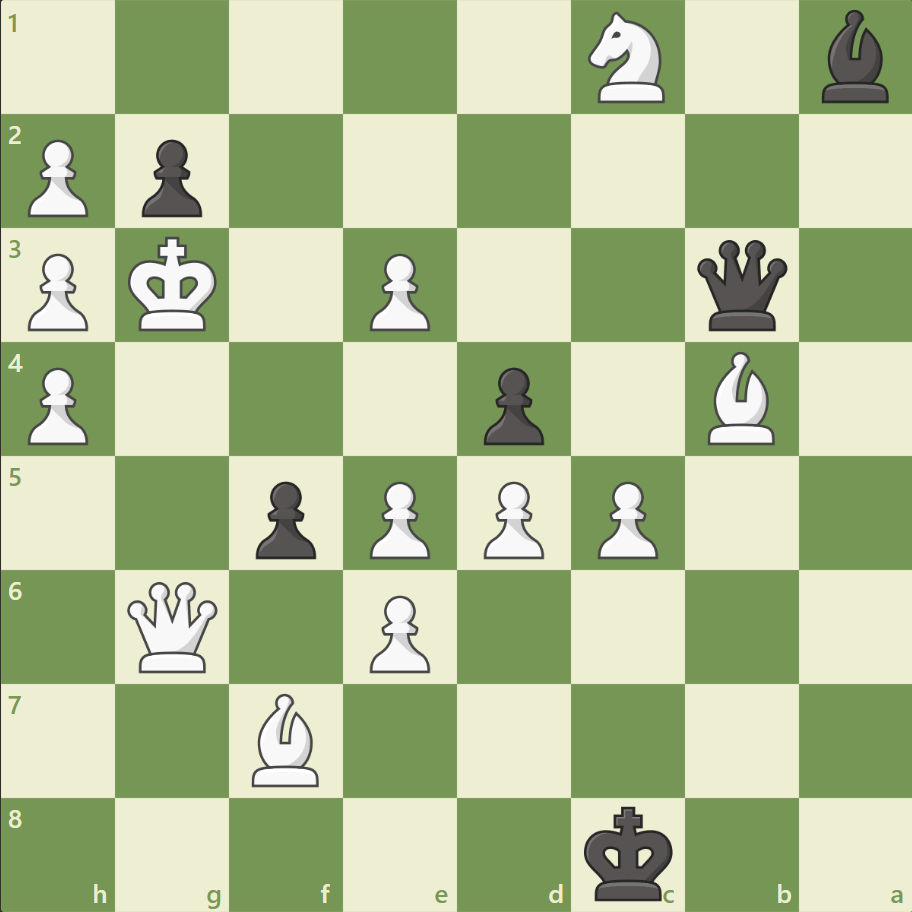B: (244, 687, 328, 790), (698, 347, 782, 449)
K: (124, 231, 224, 339)
N: (579, 7, 676, 110)
P: (474, 473, 549, 564), (20, 359, 95, 450), (20, 246, 95, 337), (20, 132, 95, 223), (361, 586, 435, 677), (588, 473, 662, 564), (361, 473, 435, 564), (361, 246, 435, 337)
Q: (124, 576, 223, 676)
b: (812, 6, 896, 109)
k: (579, 798, 679, 906)
p: (247, 473, 322, 564), (474, 359, 549, 450), (133, 132, 208, 223)
q: (691, 236, 790, 335)
